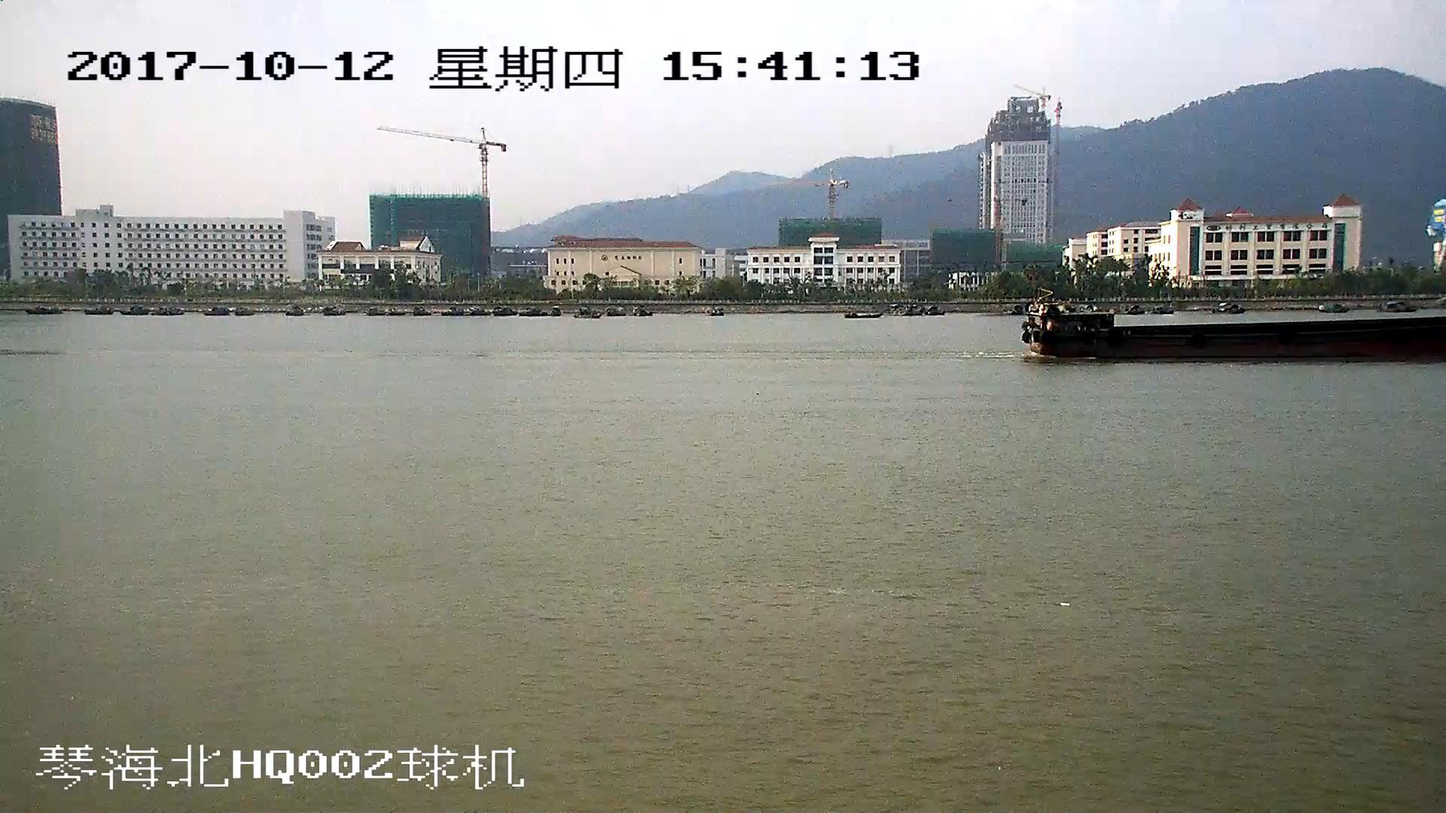general cargo ship: (1023, 299, 1445, 364)
